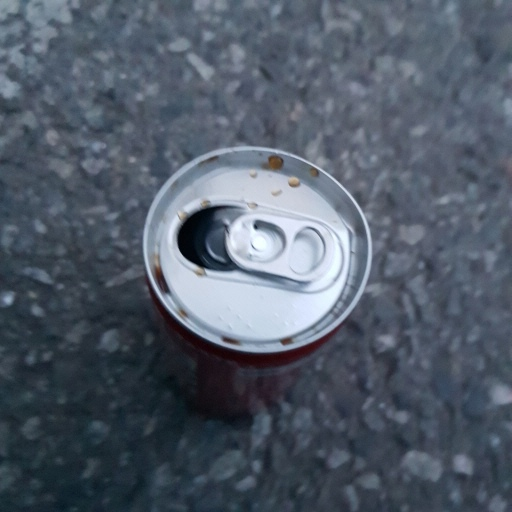Metal_0: (135, 133, 375, 409)
